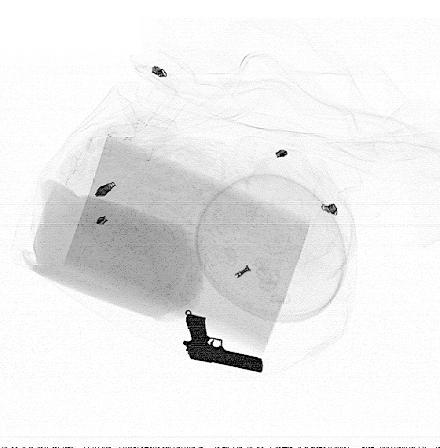Gun: (181, 313, 263, 373)
